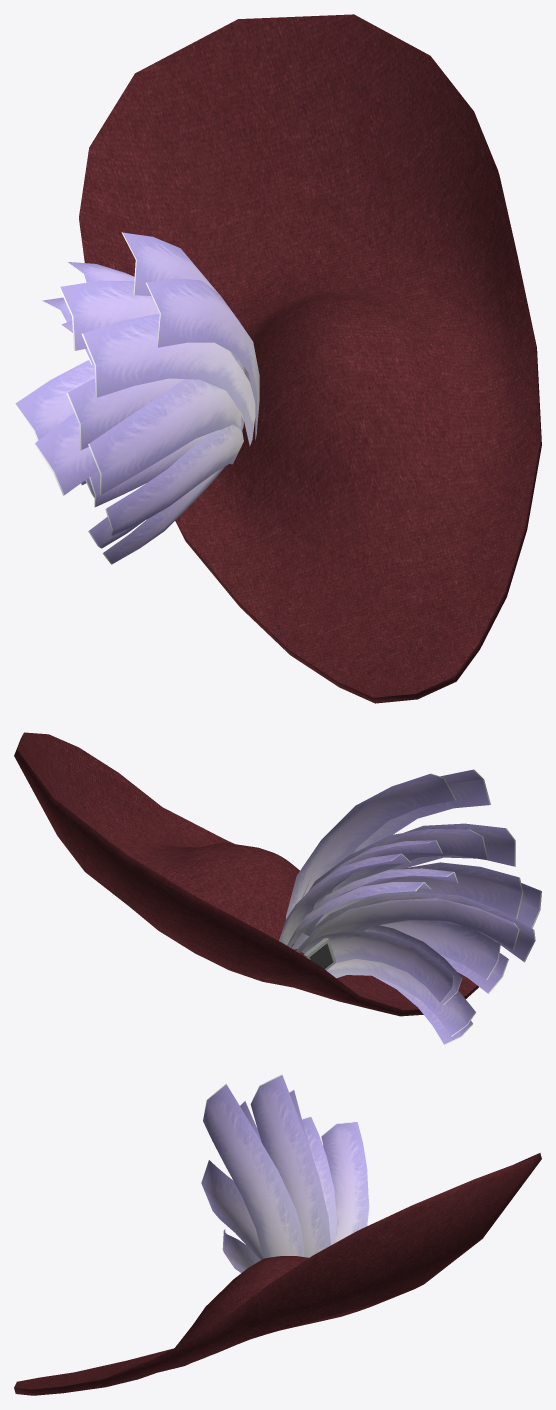
File: elegant.glb
3 renders of one model, top to bottom at view 1: azimuth 30°, elevation 25°; view 2: azimuth 150°, elevation 25°; view 3: azimuth 270°, elevation 25°, orthographic. The views are drawn at different scales.
Visible parts, largest first — view 1: mesh0, mesh2; view 2: mesh2, mesh0, mesh1; view 3: mesh0, mesh2.
Part boxes in pixels (left/top/right/bottom): mesh0: left=79, top=14, right=541, bottom=703; mesh2: left=14, top=232, right=259, bottom=564; mesh2: left=279, top=769, right=541, bottom=1045; mesh0: left=14, top=732, right=478, bottom=1016; mesh1: left=304, top=938, right=335, bottom=970; mesh0: left=14, top=1153, right=541, bottom=1395; mesh2: left=201, top=1074, right=369, bottom=1272.
Size of the model in its own units: 0.738 by 0.5634 by 0.89.
3 materials, 3 textured.
